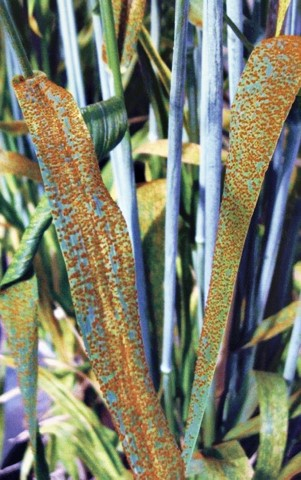Leaf Rust: (30, 93, 168, 452), (197, 42, 300, 371)
